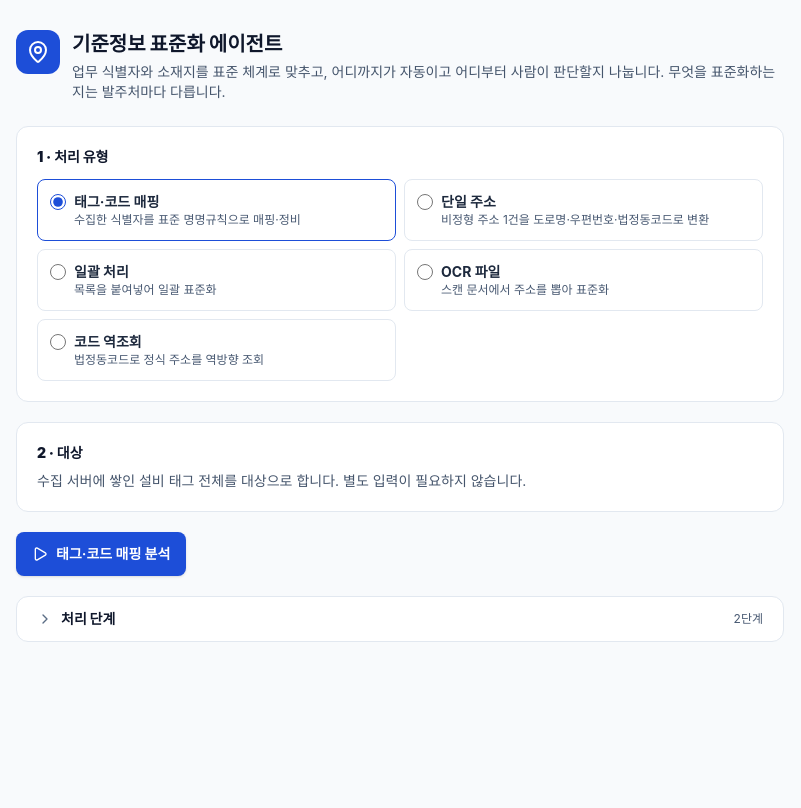
MappingPage › AI로 해결되지 않는 건수와 표준화율 상한을 밝힌다
Click the button "태그·코드 매핑 분석" at {"x": 101, "y": 554}, box [16, 532, 186, 576]
(page scrolled)
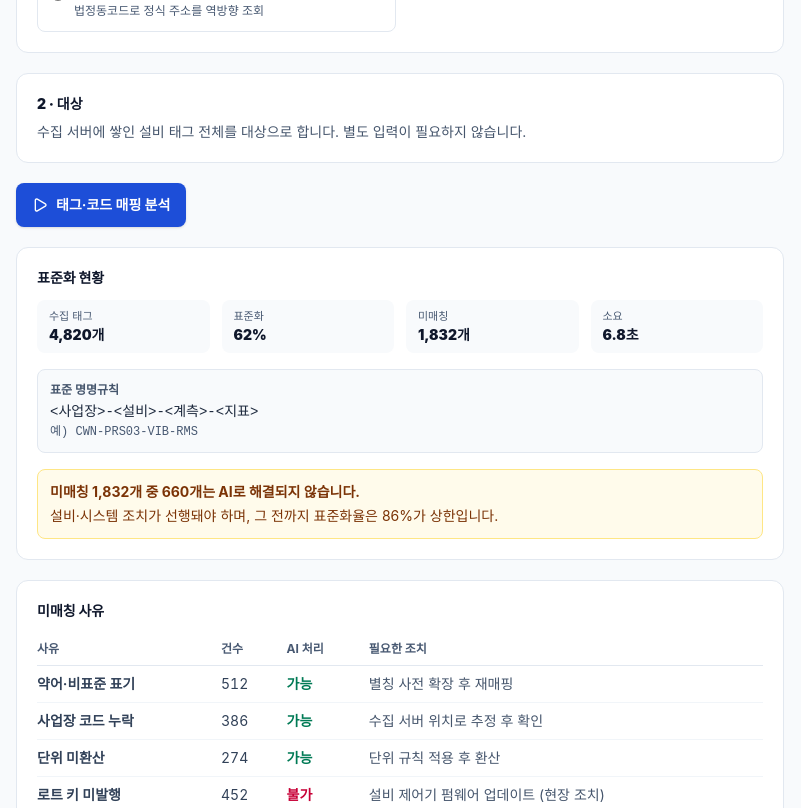
Now the element "표준화 현황" shows "660개는 AI로 해결되지 않습니다", box [16, 247, 784, 560]
Now the element "표준화 현황" shows "86%가 상한입니다", box [16, 247, 784, 560]
